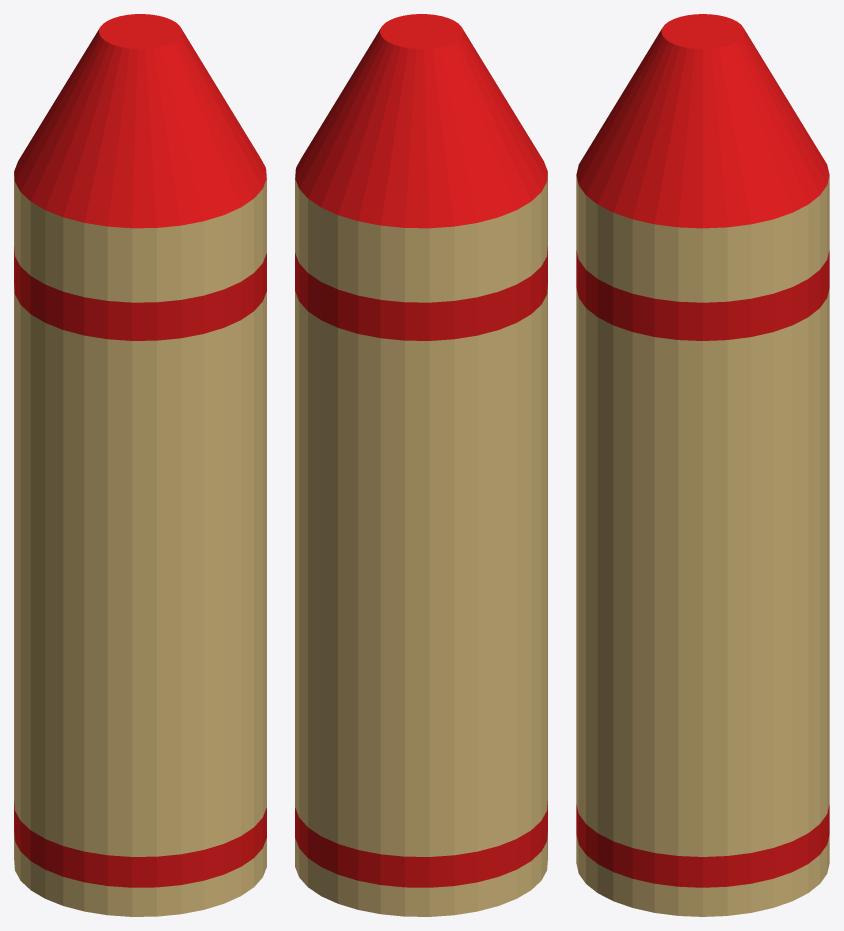
The model's file is crayon red.fbx.
The picture shows the model from 3 angles, left to right: view 1: azimuth 30°, elevation 25°; view 2: azimuth 150°, elevation 25°; view 3: azimuth 270°, elevation 25°; orthographic projection.
Parts seen in each view (by area): view 1: Cylinder; view 2: Cylinder; view 3: Cylinder.
Part boxes in pixels (x1=…): Cylinder: x1=14, y1=14, x2=266, y2=916; Cylinder: x1=295, y1=14, x2=547, y2=916; Cylinder: x1=576, y1=14, x2=829, y2=916.
Bounding box in the file's own units: 20 × 72.49 × 20.
